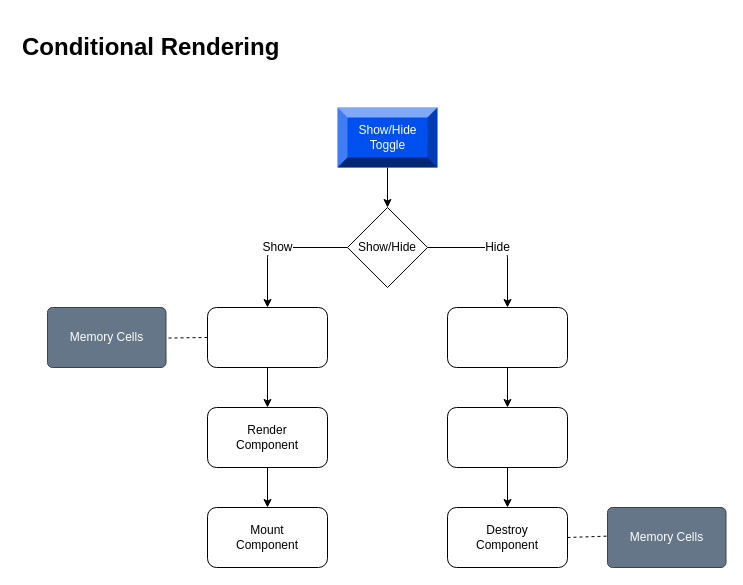
The diagram is 743 pixels wide and 585 high, and some of its shapes have lost their labels. Here are the shapes that lost their labels. From the top down, the centre of each, then its label:
pixel 267 337: Construct Component
pixel 507 337: React Flags Component
pixel 507 437: Unmount Component
